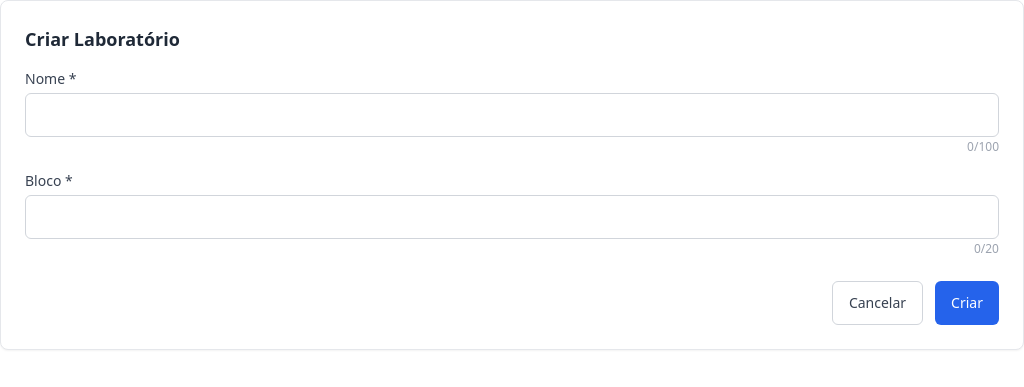
Test: LaboratoryForm › shows validation error when block is empty
The width and height of the screenshot is (1024, 387).
Type "Lab Teste" into the field labelled "Nome *". click: (512, 115)
box: 25,93 -> 999,137
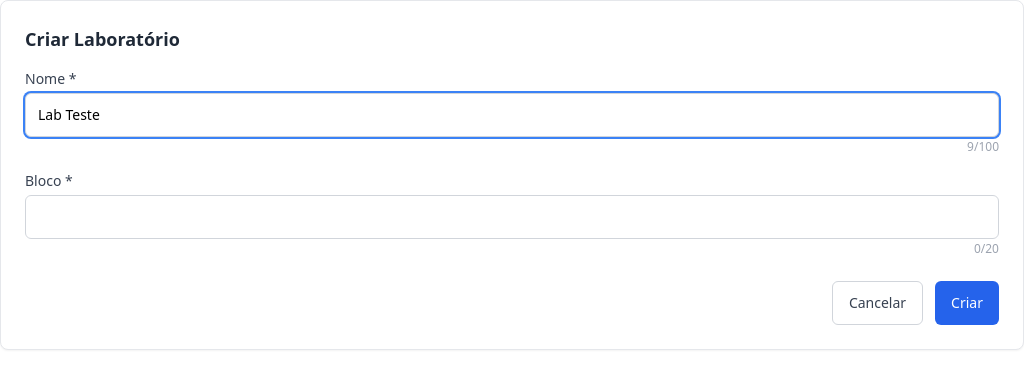
Click the button "Criar". click: (967, 303)
box: 935,281 -> 999,325
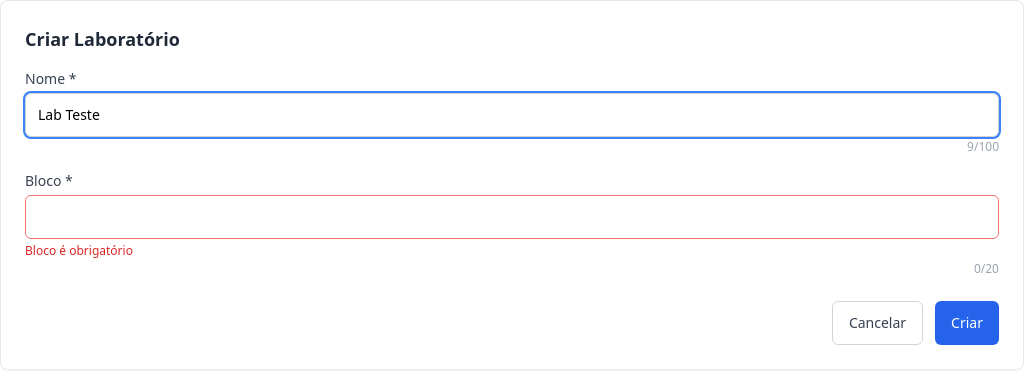
Expected: the text "Bloco é obrigatório" is shown, 25,242 -> 133,259
